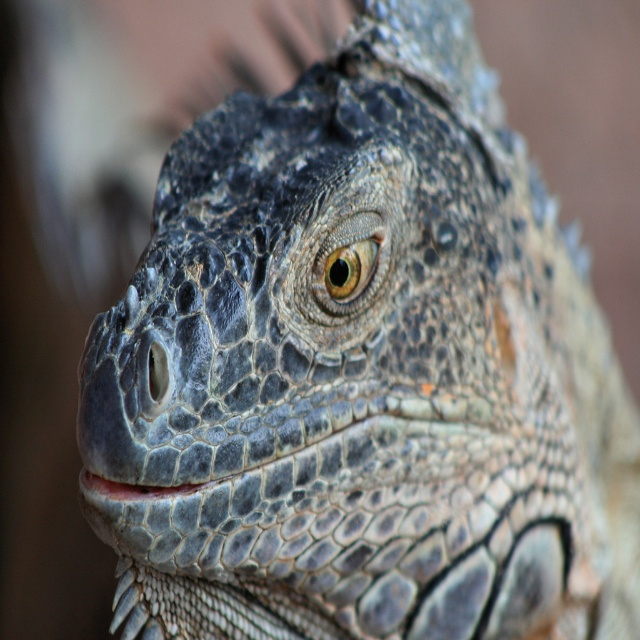Lizard: (86, 41, 640, 640)
